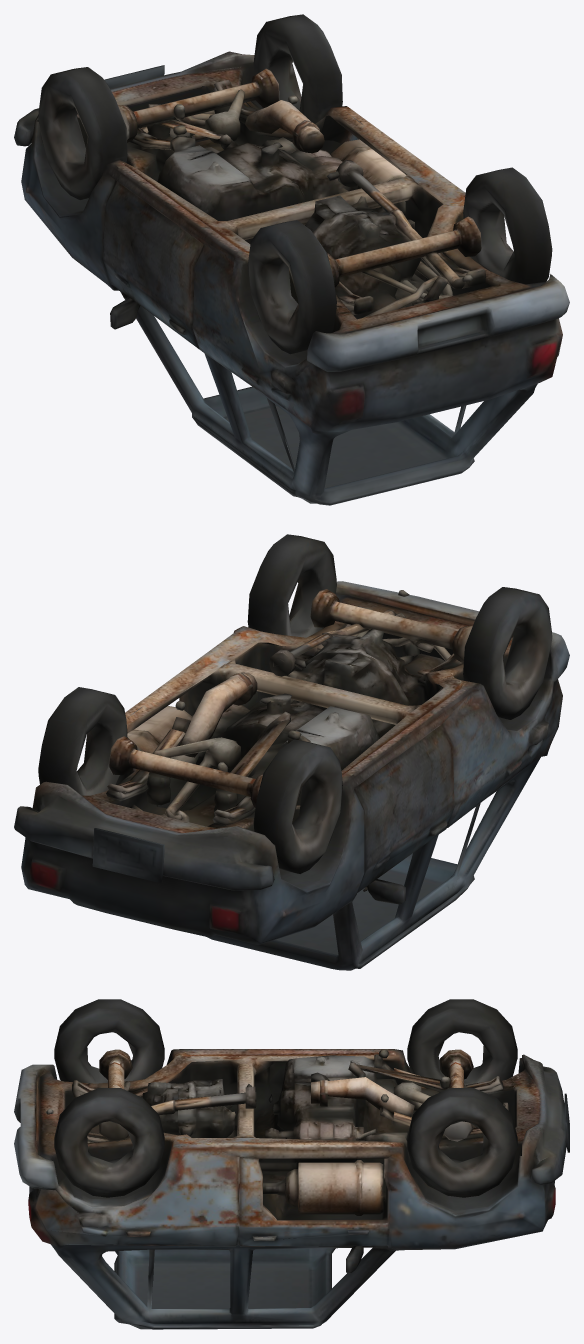
Rendered from wrecked_sedan_flipped_01.fbx.
The picture shows the model from 3 angles, top to bottom: view 1: azimuth 30°, elevation 25°; view 2: azimuth 150°, elevation 25°; view 3: azimuth 270°, elevation 25°; orthographic projection. The views are drawn at different scales.
Visible parts, largest first — view 1: tripo_node_463abcdb; view 2: tripo_node_463abcdb; view 3: tripo_node_463abcdb.
Boxes of the visible parts, x1,y1,x2,y2 form: tripo_node_463abcdb: [14, 14, 569, 505]; tripo_node_463abcdb: [14, 534, 569, 970]; tripo_node_463abcdb: [14, 999, 569, 1329].
Size of the model in its own units: 0.5108 by 0.4971 by 0.9961.
1 material, 1 textured.
